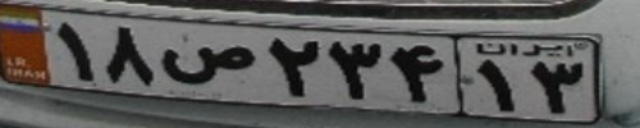1: (474, 58, 516, 112), (55, 19, 91, 80)
2: (269, 37, 320, 98)
3: (327, 40, 382, 100), (529, 59, 586, 113)
4: (389, 42, 442, 102)
8: (105, 23, 158, 83)
saat: (163, 43, 254, 84)
